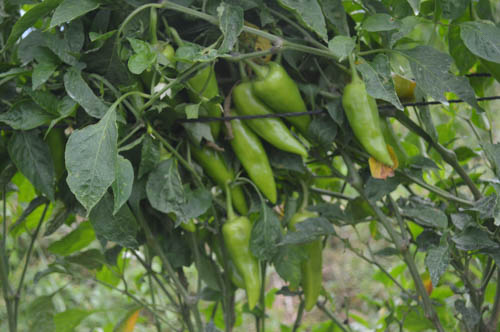ChiliPepper: (234, 81, 306, 160), (340, 79, 393, 176), (222, 109, 274, 206), (192, 131, 247, 215), (251, 66, 313, 132), (225, 219, 268, 314), (177, 51, 223, 137), (293, 209, 323, 311)
